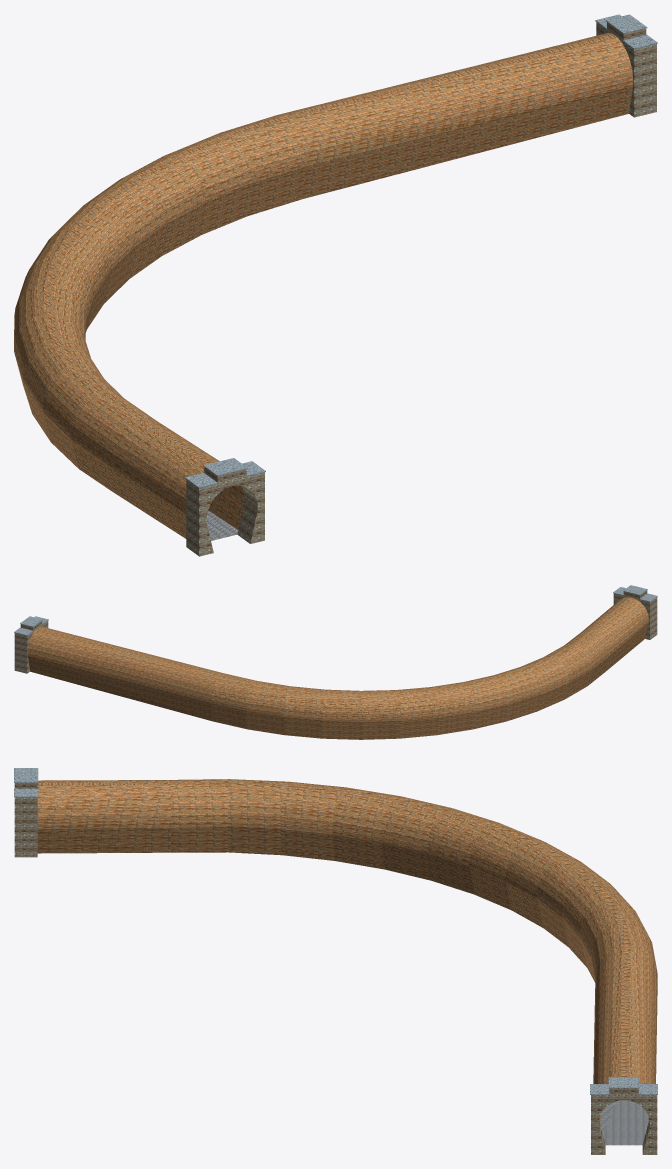
The model's file is GMLID_BUI142242_863_347.dae.
3 renders of one model, top to bottom at view 1: azimuth 30°, elevation 25°; view 2: azimuth 150°, elevation 25°; view 3: azimuth 270°, elevation 25°, orthographic. The views are drawn at different scales.
Bounding box in the file's own units: 130 × 105 × 14.61.
Materials: 4 (4 with a texture image).
